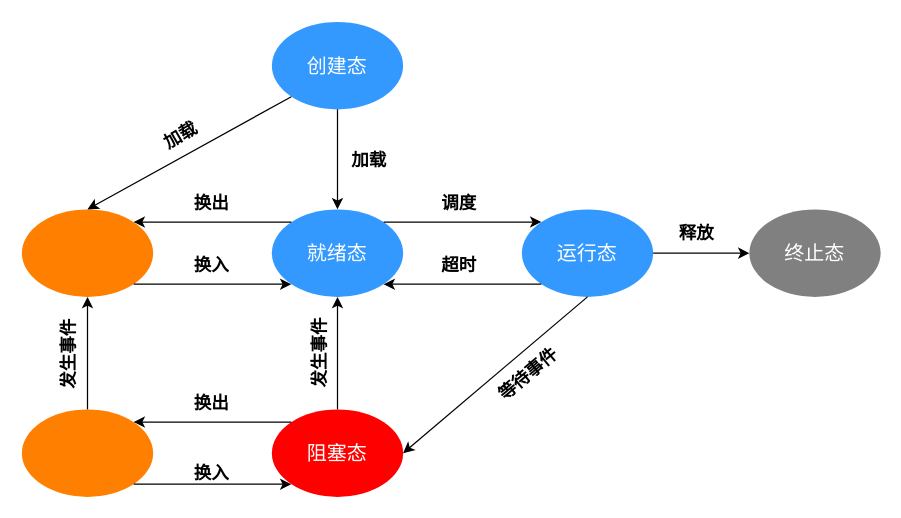
Image size: 901x518. Some labels were removed from this diagram. Here are the shapes that lost their labels. From the top down, the box of each, then its label:
(21, 209, 152, 296): 就绪/挂起
(21, 409, 152, 496): 阻塞/挂起
